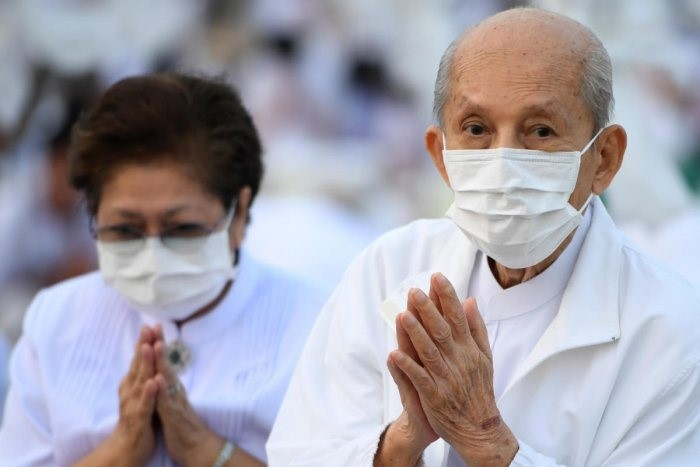face_with_mask: (428, 6, 630, 273), (79, 64, 268, 319)
